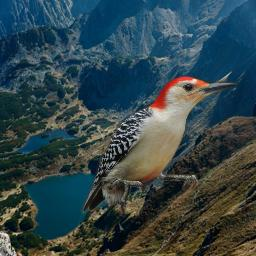Woodpecker: (81, 76, 237, 214)
